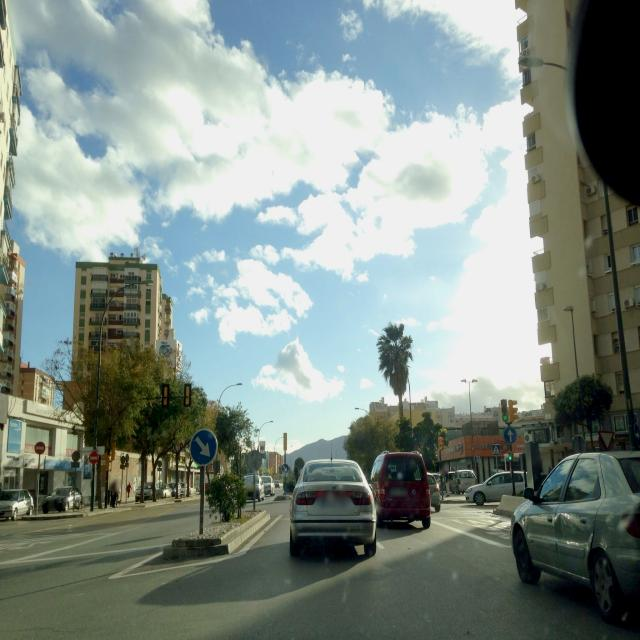car: (511, 449, 640, 625), (288, 457, 378, 558), (368, 450, 432, 530), (465, 470, 526, 506), (40, 486, 83, 514), (0, 488, 34, 522), (446, 468, 477, 494), (426, 473, 442, 513), (242, 474, 264, 502), (134, 482, 164, 502), (259, 474, 275, 496), (273, 479, 282, 490)
